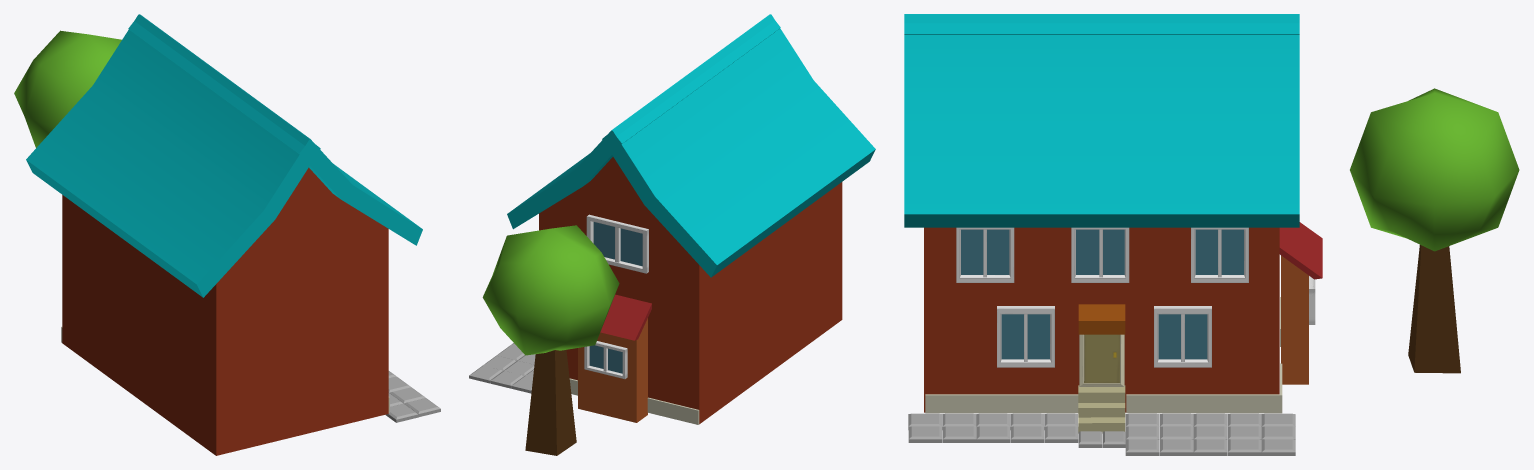
File: house.fbx
3 renders of one model, left to right at view 1: azimuth 30°, elevation 25°; view 2: azimuth 150°, elevation 25°; view 3: azimuth 270°, elevation 25°, orthographic. The views are drawn at different scales.
Parts seen in each view (by area): view 1: pCube3, pCube8, pCube1; view 2: pCube8, pCube3, pCube1, pCube17, pCube2, pCube6 (×2), pCube18, pCube23; view 3: pCube8, pCube3, pCube1, pCube6 (×5), pCube2, pCube17, pCube21, pCube20, pCube12, pCube13, pCube18, pCube16.
Boxes of the visible parts, box(x1,y1,x2,y2) form: pCube3: box(62, 167, 388, 455); pCube8: box(26, 14, 422, 297); pCube1: box(14, 30, 121, 147); pCube8: box(507, 14, 875, 277); pCube3: box(539, 157, 842, 424); pCube1: box(482, 225, 619, 355); pCube17: box(578, 318, 647, 422); pCube2: box(525, 350, 576, 455); pCube6 (×2): box(584, 214, 648, 379); pCube18: box(600, 294, 651, 340); pCube23: box(647, 397, 699, 424); pCube8: box(904, 14, 1299, 227); pCube3: box(924, 227, 1279, 412); pCube1: box(1350, 88, 1519, 251); pCube6 (×5): box(956, 227, 1248, 367); pCube2: box(1408, 245, 1460, 373); pCube17: box(1281, 255, 1308, 384); pCube21: box(1126, 394, 1280, 413); pCube20: box(925, 394, 1078, 413); pCube12: box(1079, 334, 1124, 386); pCube13: box(1078, 385, 1125, 433); pCube18: box(1279, 222, 1322, 279); pCube16: box(1078, 304, 1125, 334).
Size of the model in its own units: 2.22 by 2.42 by 3.82.
Materials: 12 (2 with a texture image).
